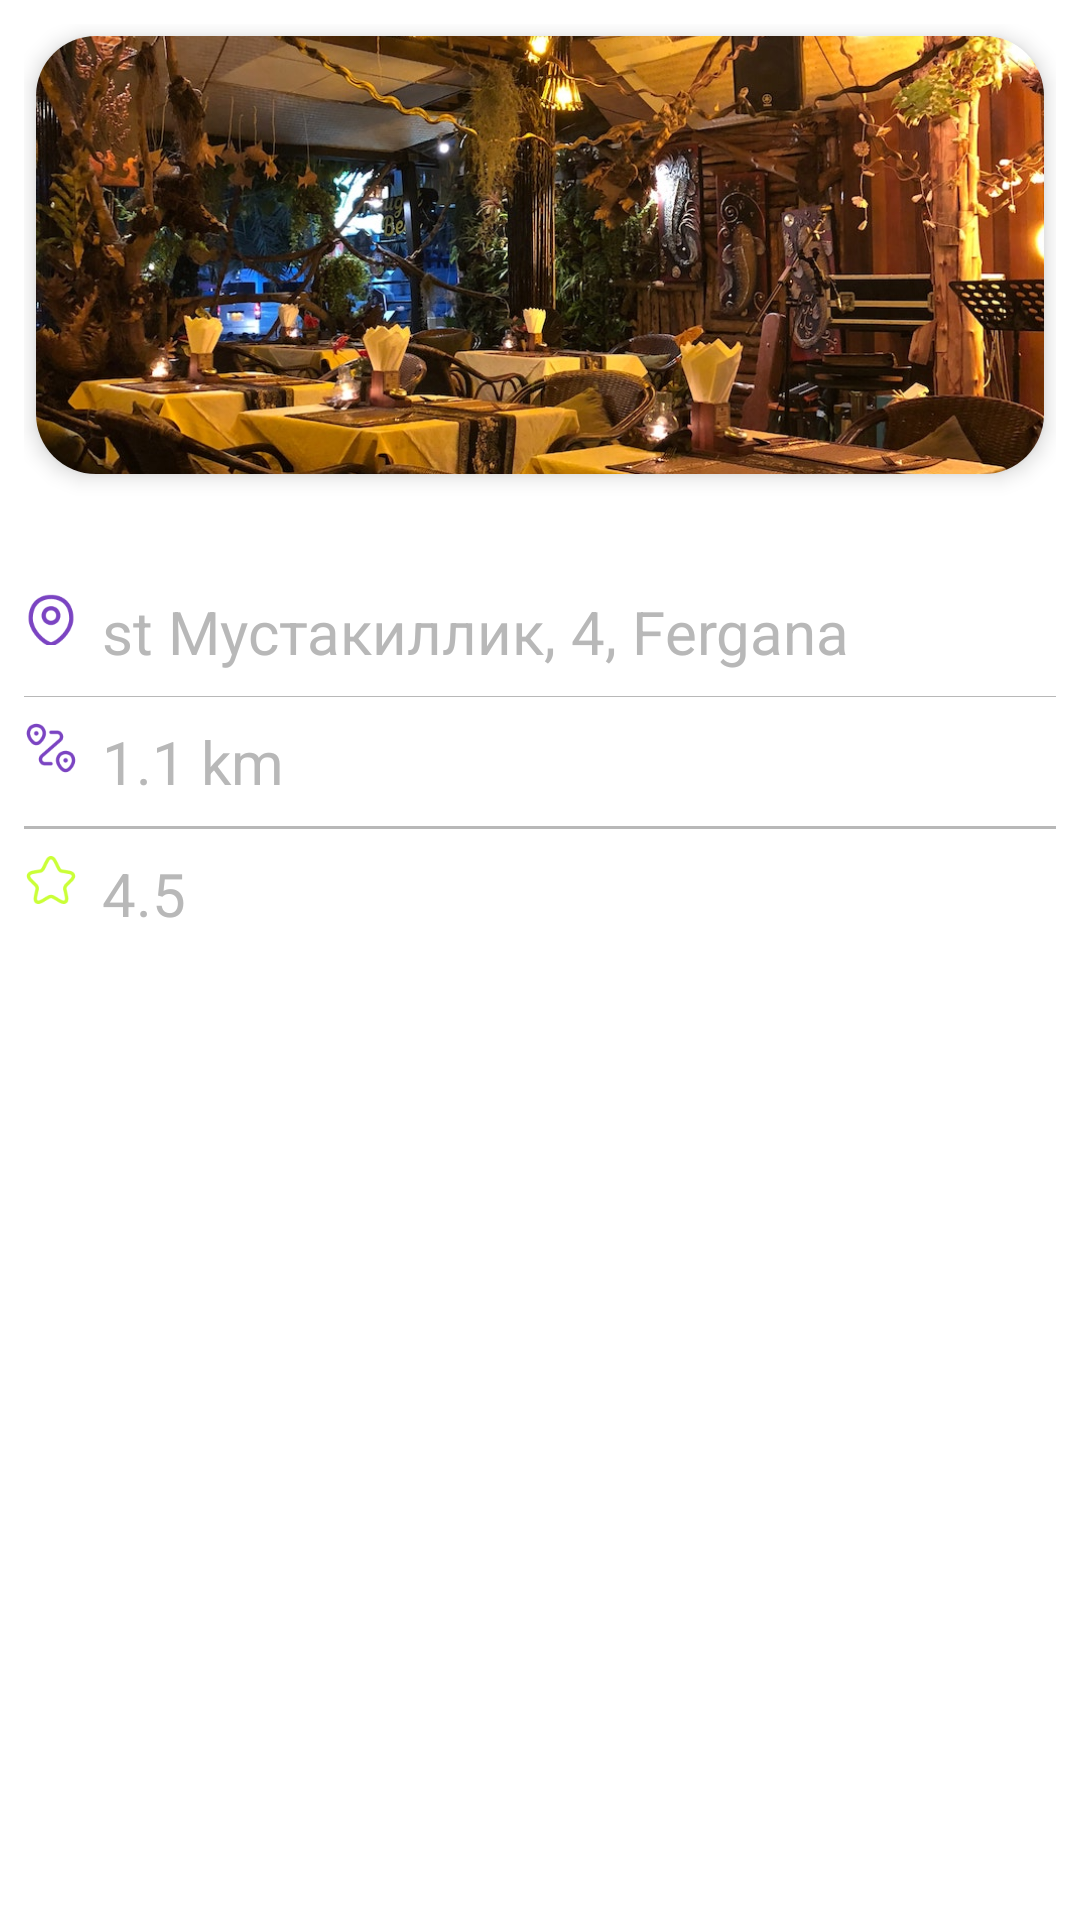

Locate icon controls on the screen. Image size 1080w x 1920h, boxes as (x1, y1, x2, y2).
location: (28, 595, 74, 645)
routing: (26, 723, 76, 773)
star: (26, 856, 76, 904)
